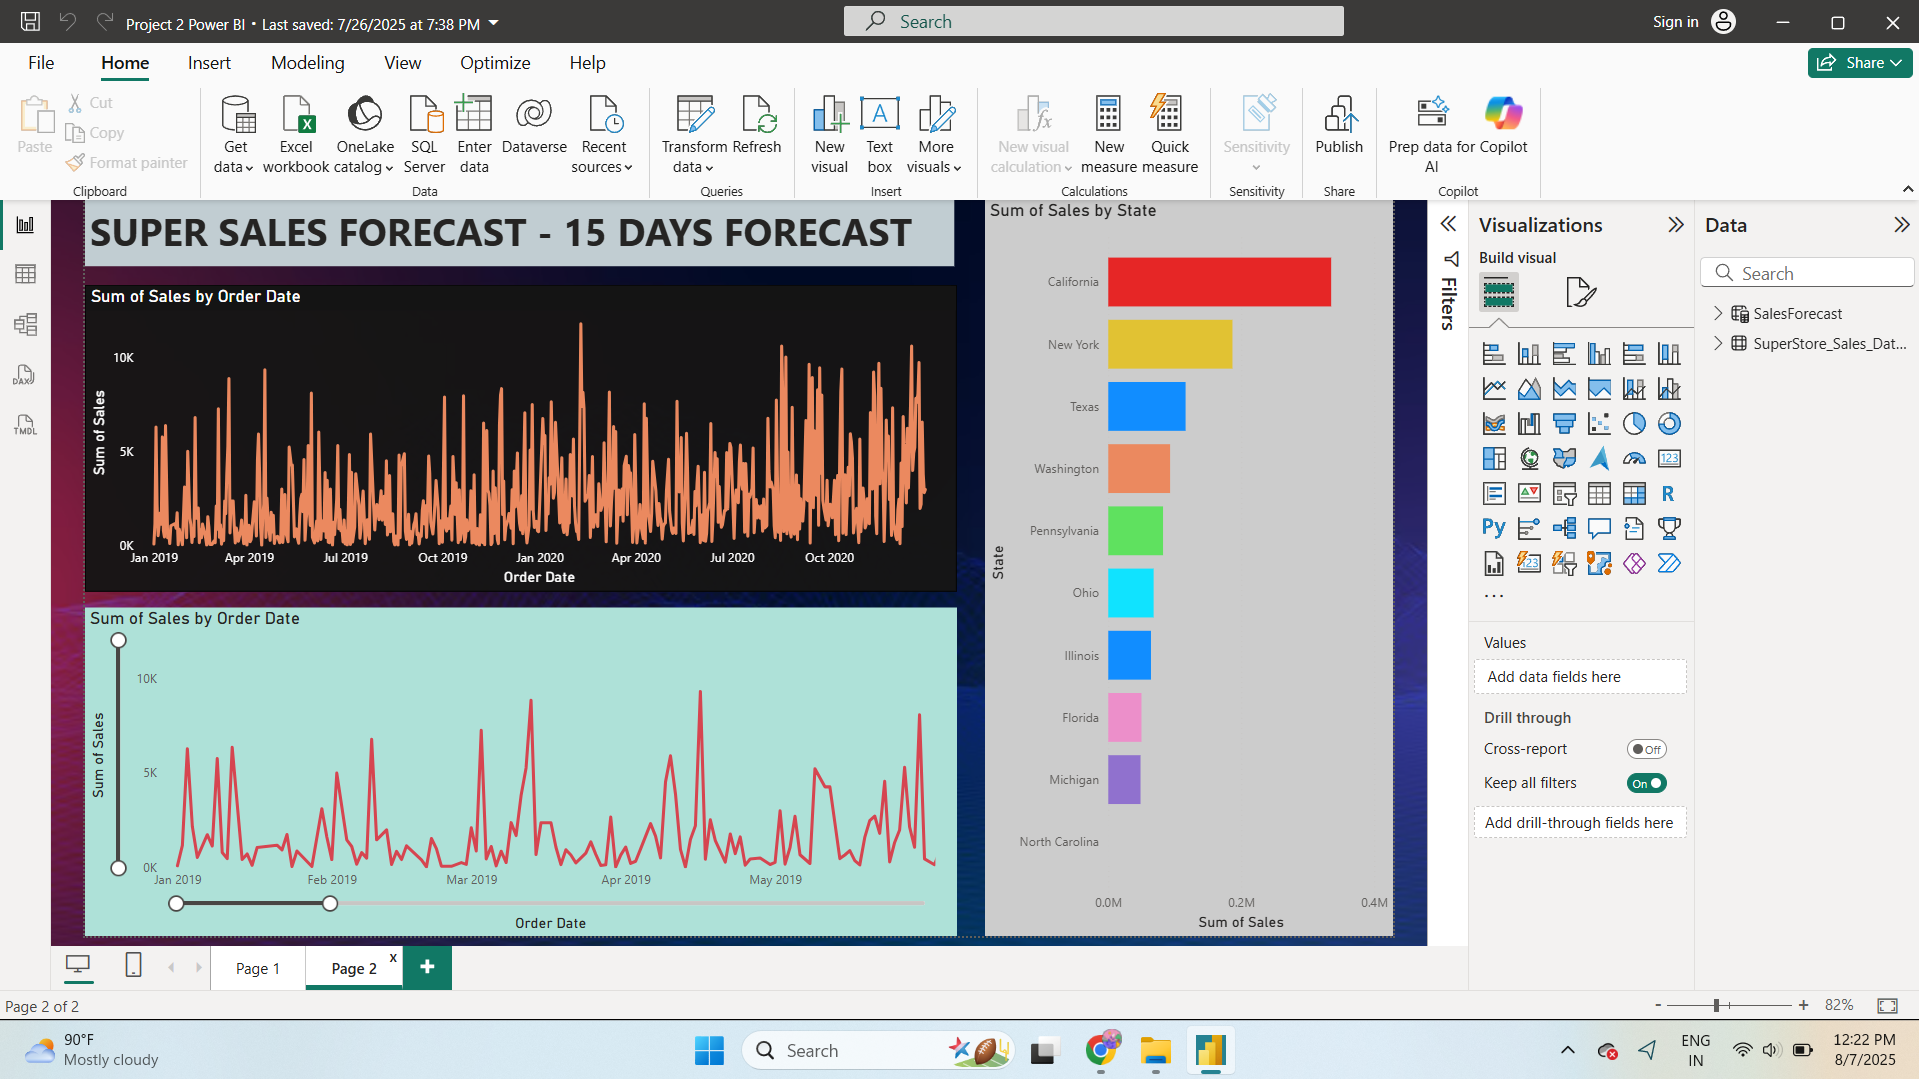

What the dashboard file says about the page in this screenshot:
{"tool":"powerbi","page":{"name":"Page 2","canvas":[1280,720],"ordinal":1},"visuals":[{"type":"lineChart","fields":{"Y":["Sum(SuperStore_Sales_Dataset.Sales)"],"Category":["SuperStore_Sales_Dataset.Order Date"]},"box":[0,83.8,852.5,300],"z":0},{"type":"lineChart","fields":{"Y":["Sum(SuperStore_Sales_Dataset.Sales)"],"Category":["SuperStore_Sales_Dataset.Order Date"]},"box":[0,398.8,852.5,321.2],"z":1000},{"type":"barChart","fields":{"Category":["SuperStore_Sales_Dataset.State"],"Y":["Sum(SuperStore_Sales_Dataset.Sales)"]},"box":[880,0,400,720],"z":2000},{"type":"textbox","box":[0,0,850,65],"z":3000}]}

Visuals, with their boxes on the page's 1280x720 design canvas (x1, y1, x2, y2). These are canvas units, not pixel positions in the 1919x1079 screenshot, which may show the page scaled, cropped or inside an application window:
lineChart - Sum(SuperStore_Sales_Dataset.Sales) x SuperStore_Sales_Dataset.Order Date: box(0, 84, 852, 384)
lineChart - Sum(SuperStore_Sales_Dataset.Sales) x SuperStore_Sales_Dataset.Order Date: box(0, 399, 852, 720)
barChart - SuperStore_Sales_Dataset.State x Sum(SuperStore_Sales_Dataset.Sales): box(880, 0, 1280, 720)
textbox: box(0, 0, 850, 65)
